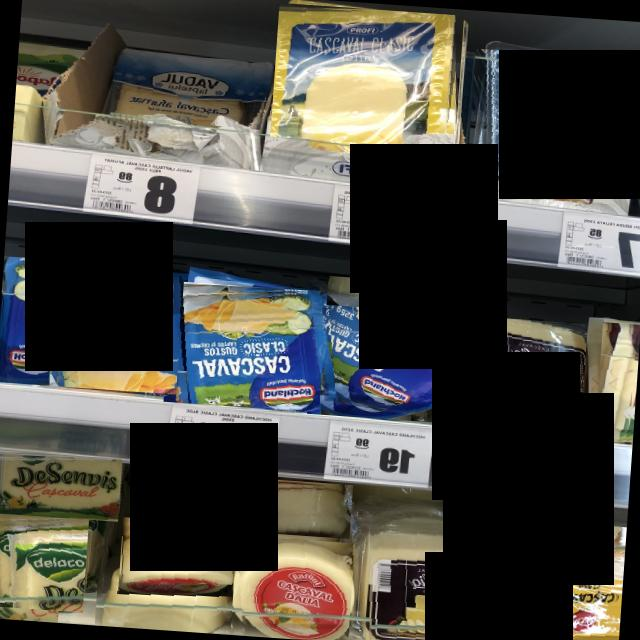cheese: (270, 2, 463, 148), (465, 48, 640, 189), (163, 281, 327, 412), (306, 302, 464, 423), (362, 518, 504, 640), (49, 266, 184, 394), (491, 518, 626, 640), (454, 315, 587, 434), (229, 534, 354, 640), (506, 532, 625, 640), (110, 51, 270, 130), (117, 516, 236, 596), (0, 511, 88, 612), (0, 449, 122, 521), (95, 575, 232, 634), (235, 476, 352, 538), (0, 256, 56, 385), (0, 525, 63, 622), (594, 322, 640, 442), (326, 276, 422, 310)
